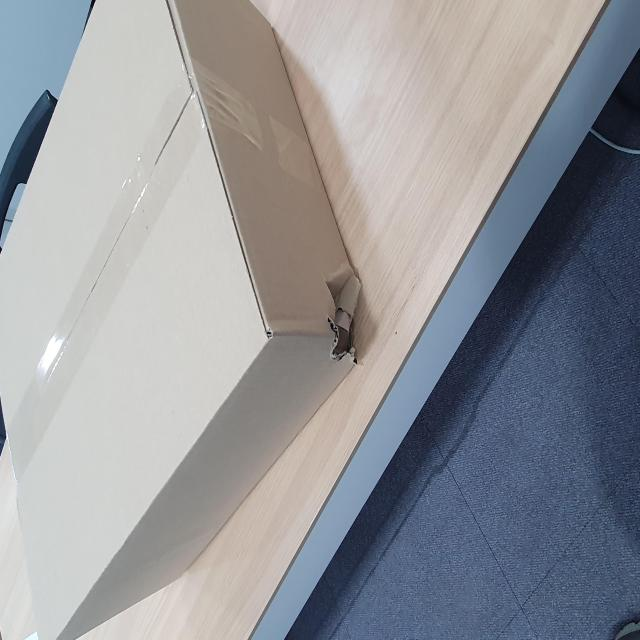damaged: (153, 565, 215, 640)
